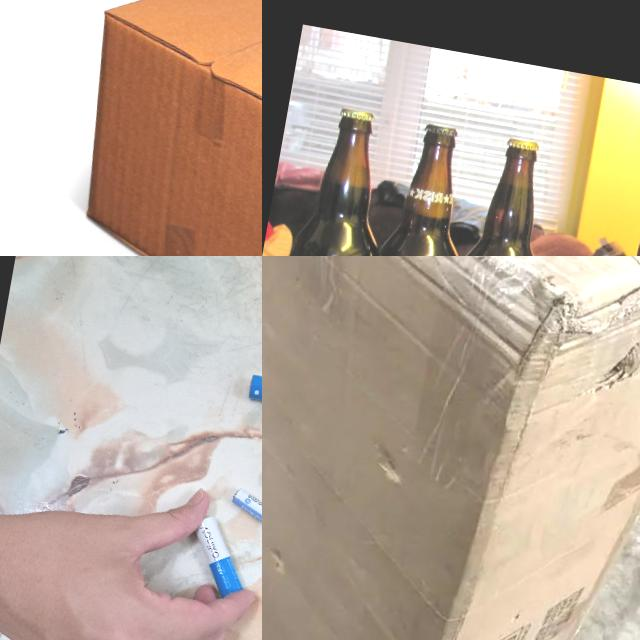bateria: (183, 512, 257, 602), (225, 486, 262, 543)
garrafa de vidro: (262, 101, 405, 256), (341, 118, 484, 256), (423, 131, 563, 256)
garrafa plástica: (51, 0, 262, 256)
papelão: (262, 256, 640, 640)
